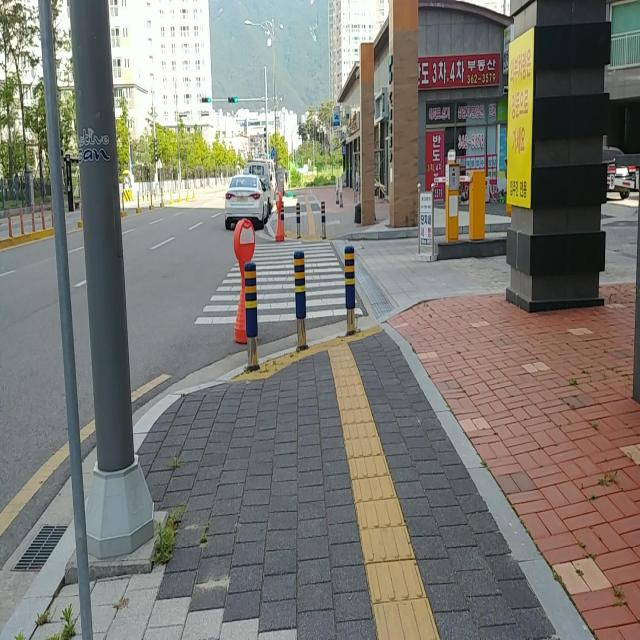횡단보도: (194, 241, 364, 326)
